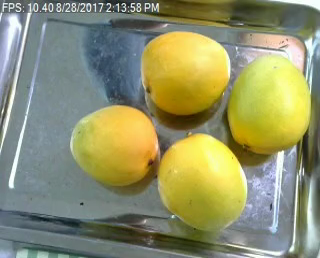Mango: (157, 134, 247, 232), (225, 52, 309, 154), (140, 33, 230, 115), (68, 105, 159, 186)
